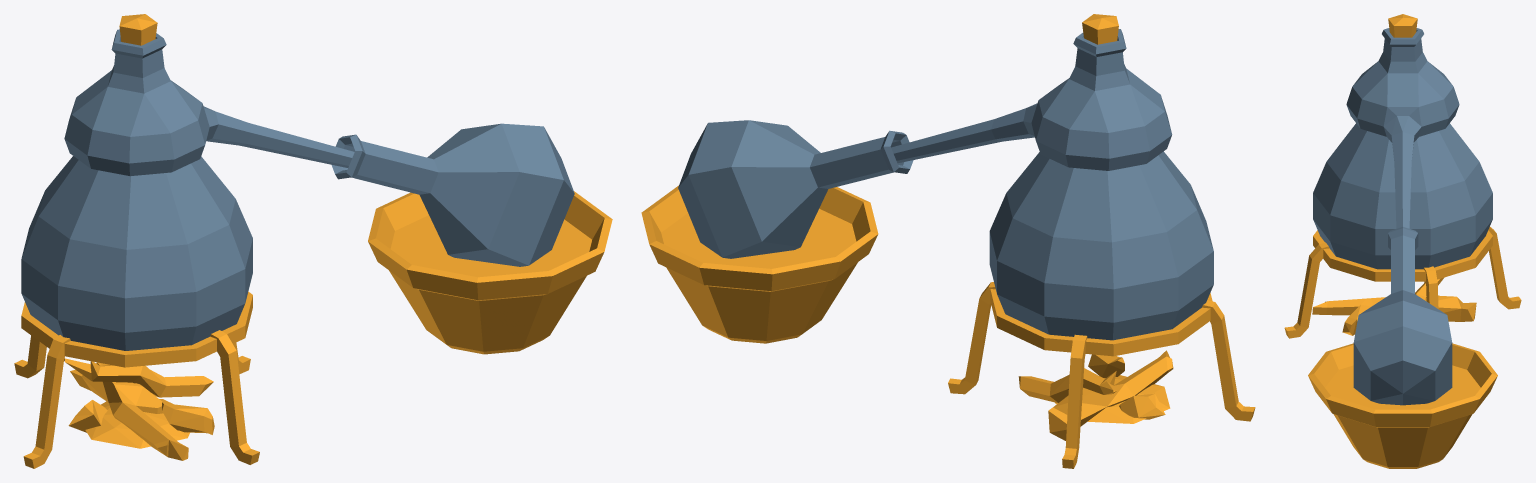
File: SM_Alembic_Glass_Alchemy.fbx
3 renders of one model, left to right at view 1: azimuth 30°, elevation 25°; view 2: azimuth 150°, elevation 25°; view 3: azimuth 270°, elevation 25°, orthographic. The views are drawn at different scales.
Visible parts, largest first — view 1: alembic-glass-alchemy; view 2: alembic-glass-alchemy; view 3: alembic-glass-alchemy.
Boxes of the visible parts, x1,y1,x2,y2 form: alembic-glass-alchemy: [14, 14, 612, 468]; alembic-glass-alchemy: [641, 14, 1255, 468]; alembic-glass-alchemy: [1284, 14, 1521, 468].
Size of the model in its own units: 0.9027 by 0.5888 by 0.4125.
